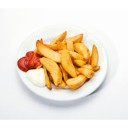frenchfries: (38, 34, 96, 86)
